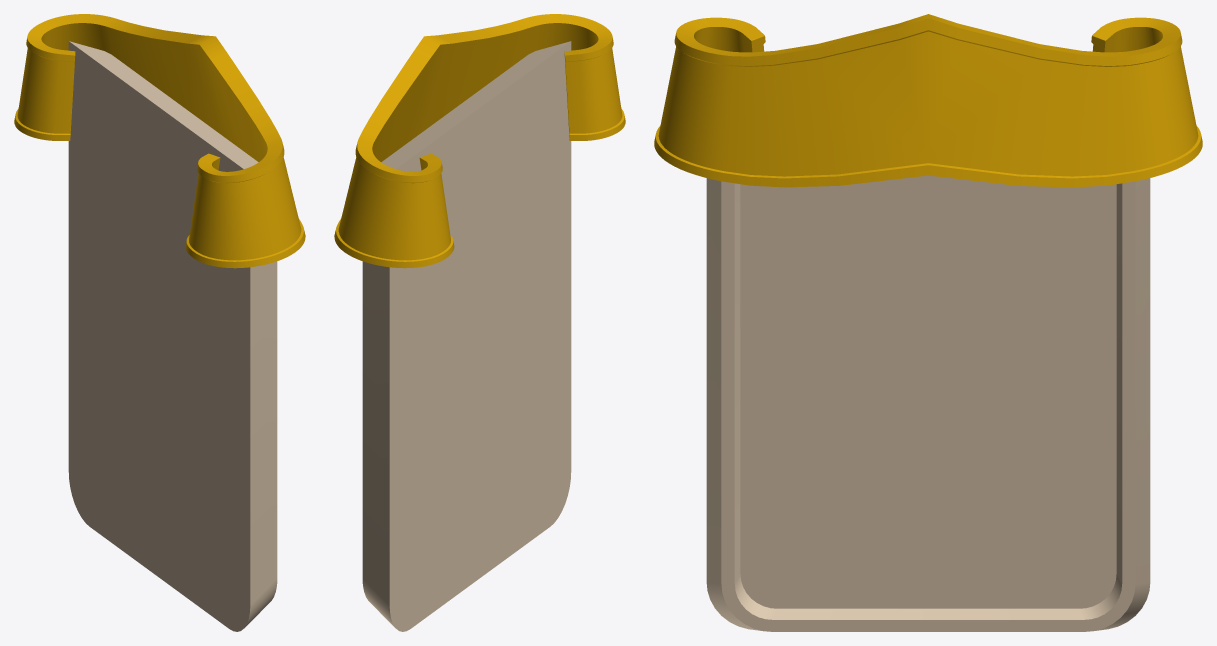
Rendered from End Winner.fbx.
3 views of the same model, side by side, from view 1: azimuth 30°, elevation 25°; view 2: azimuth 150°, elevation 25°; view 3: azimuth 270°, elevation 25° (orthographic). The views are drawn at different scales.
Visible parts, largest first — view 1: Cube, Sweep; view 2: Cube, Sweep; view 3: Cube, Sweep.
Boxes of the visible parts, bbox=[...] form: Cube: bbox=[68, 41, 277, 631]; Sweep: bbox=[14, 14, 305, 268]; Cube: bbox=[362, 41, 571, 631]; Sweep: bbox=[334, 14, 625, 268]; Cube: bbox=[706, 175, 1150, 631]; Sweep: bbox=[654, 14, 1202, 187].
Bounding box in the file's own units: 9.98 × 37.22 × 28.68.
